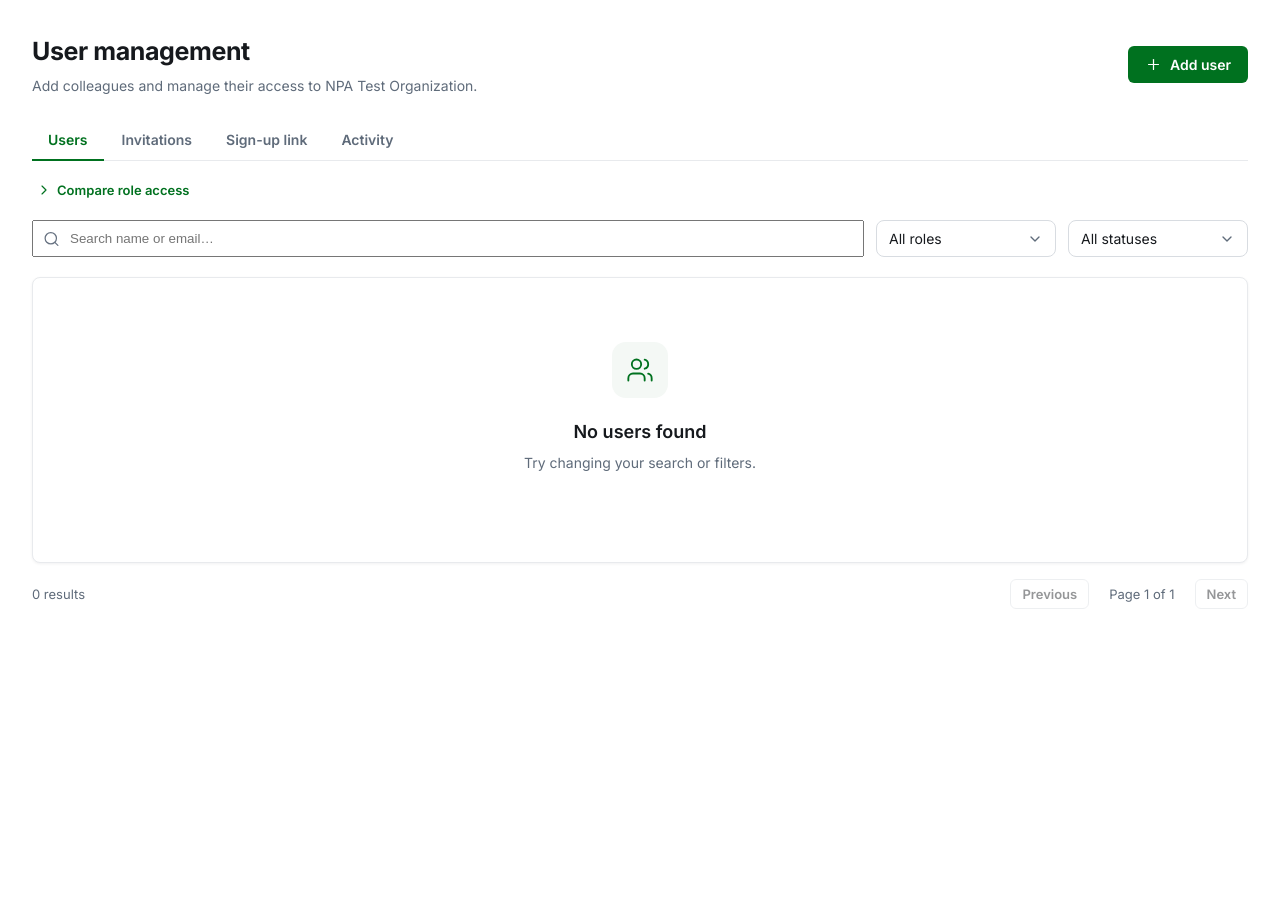
Test case: UserManagement › invites users without exposing direct password controls
The image size is (1280, 900).
Expected: the heading "No users found" is shown, x1=574 y1=421 x2=707 y2=442
Click the button "Add user" at [1188, 64], box x1=1128 y1=46 x2=1248 y2=83
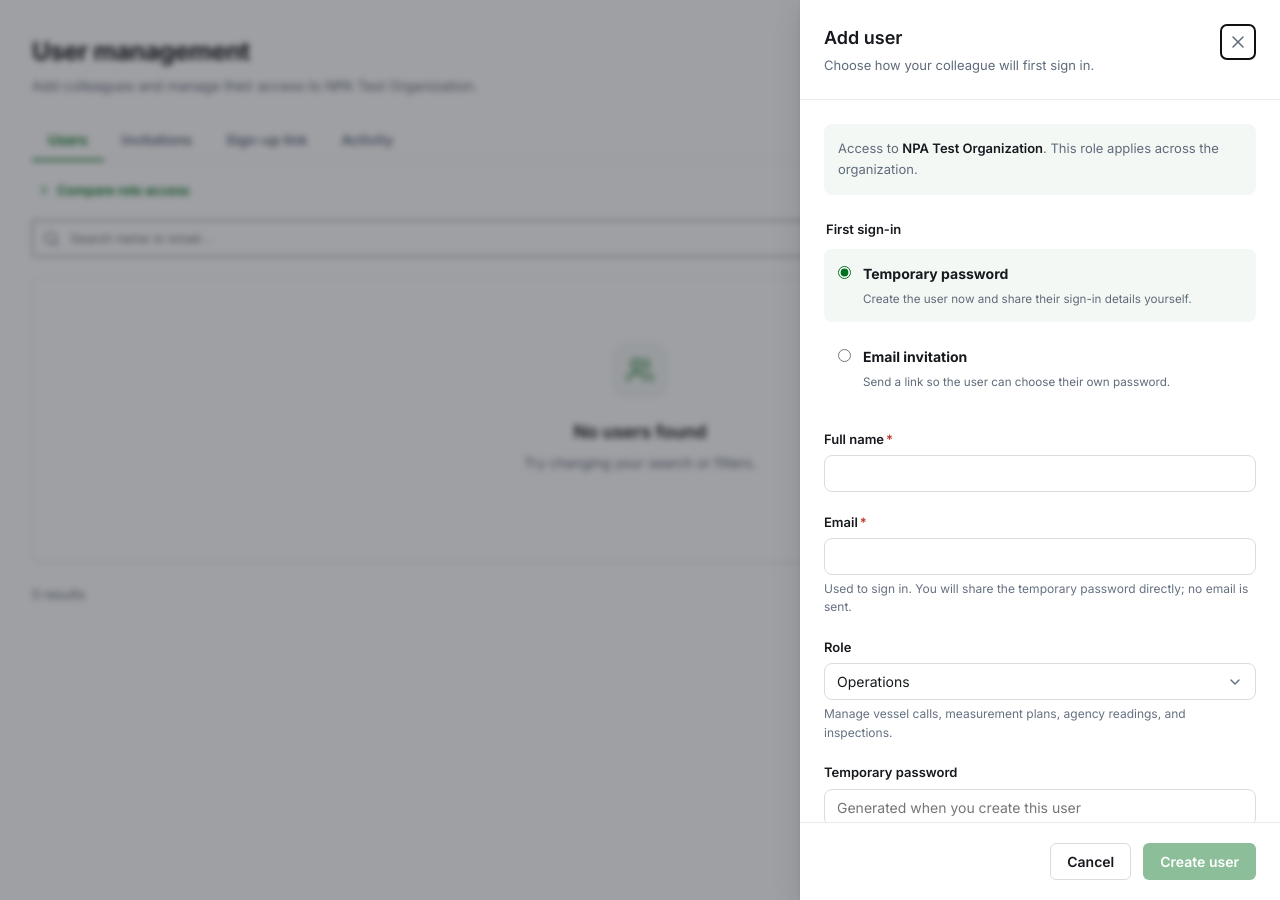
Click the radio button labelled "Email invitation" at [844, 355], box x1=838 y1=349 x2=851 y2=362
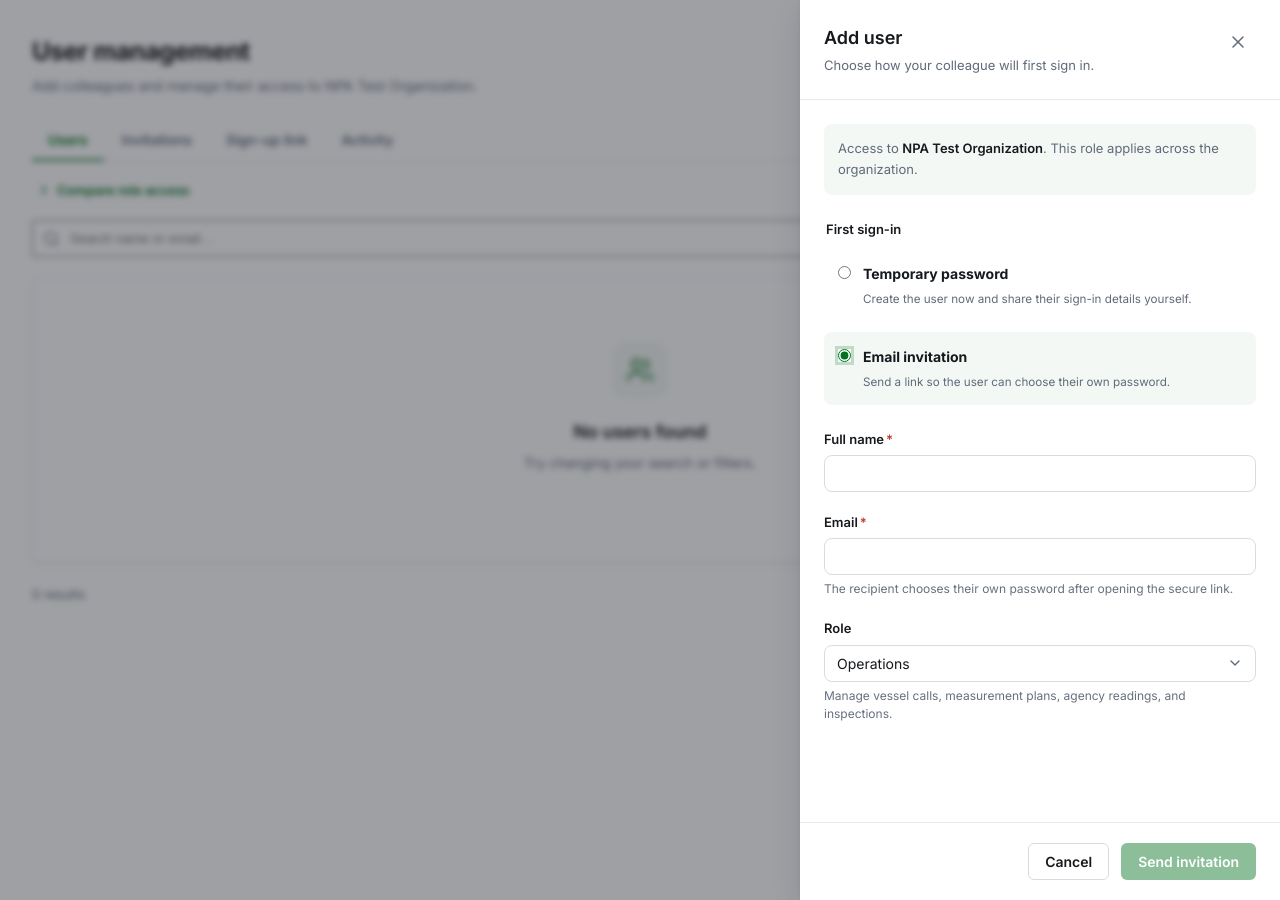
Now the dialog "Add user" is shown, box x1=800 y1=0 x2=1279 y2=899
Now the text "recipient chooses their own password" is shown, box x1=824 y1=581 x2=1233 y2=596
